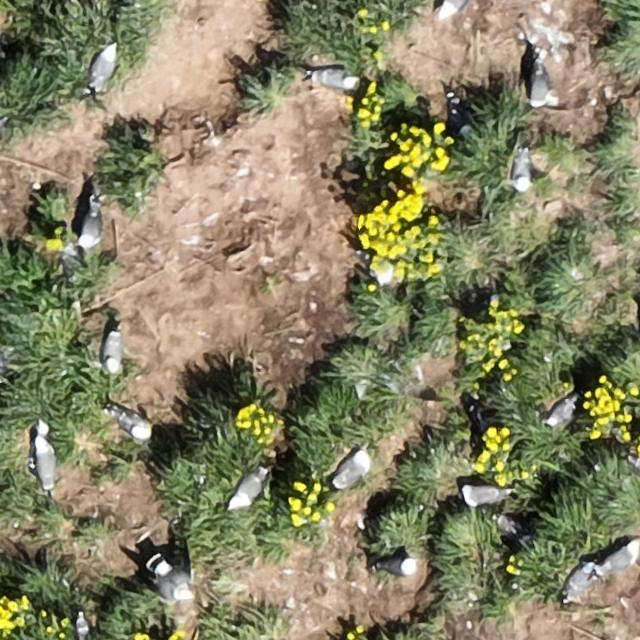umineko: (89, 45, 116, 87), (335, 453, 368, 487), (114, 409, 148, 437), (234, 472, 262, 506), (313, 70, 355, 92), (154, 564, 180, 598), (602, 545, 637, 570), (80, 209, 102, 248), (38, 440, 56, 486), (463, 484, 504, 504), (546, 397, 574, 426), (104, 331, 124, 370), (512, 152, 532, 190), (530, 66, 550, 104), (566, 567, 592, 596), (382, 558, 416, 576), (439, 0, 467, 14), (76, 613, 90, 639), (629, 456, 639, 480)
